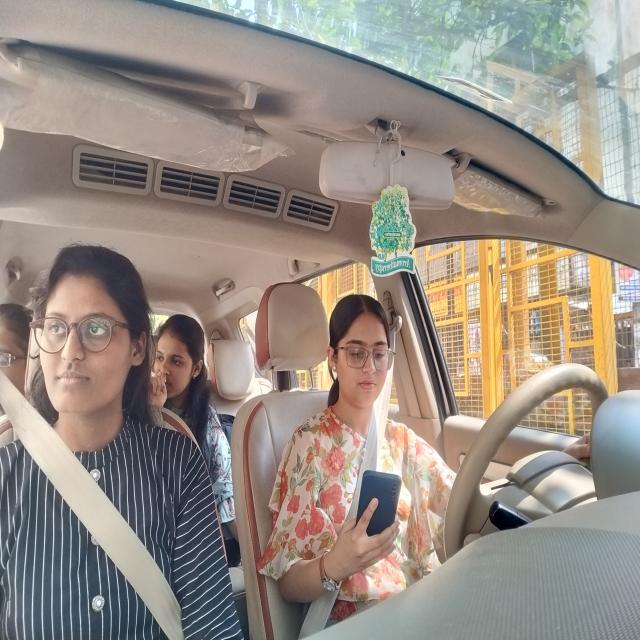mobile: (357, 464, 400, 560)
person: (34, 242, 154, 418), (325, 291, 395, 411), (154, 314, 211, 401), (0, 298, 39, 411)
